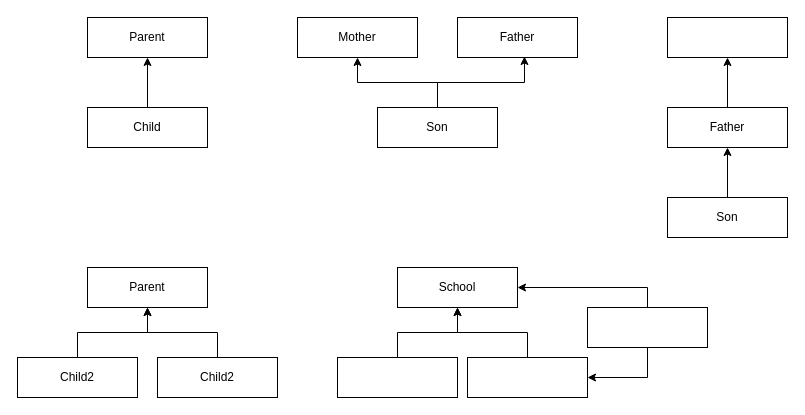
This 805x415 diagram has some shape labels left out. Each missing label, with the box of its shape:
Grandfather: (666, 16, 788, 58)
Student1: (466, 356, 588, 398)
Student2: (336, 356, 458, 398)
Student3: (586, 306, 708, 348)
